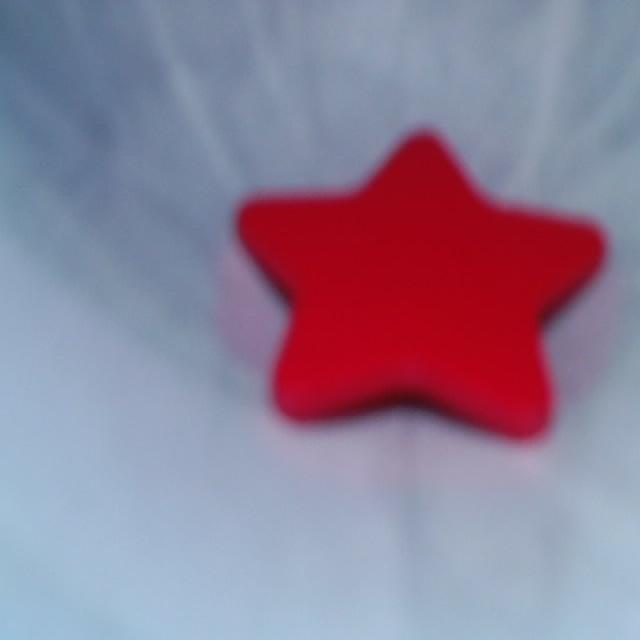star: (238, 136, 604, 432)
